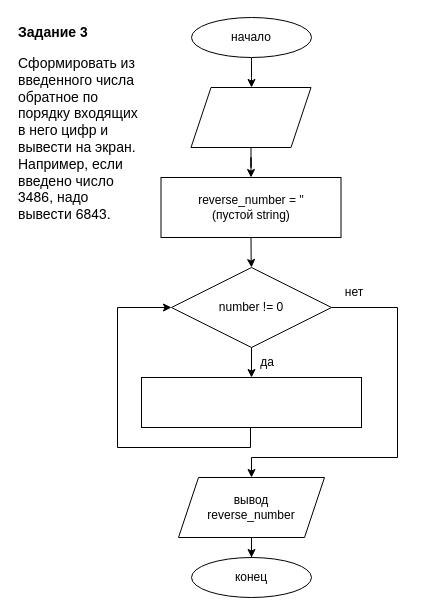
Image size: 423x615. Some labels were removed from this diagram. Here are the shapes that lost their labels. From the top down, the centre of each, then its label:
At (250,117): "ввод number".
At (251,402): "reverse_number += f'{number % 10}' number //= 10".
